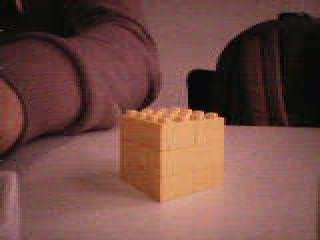legocube: (116, 106, 229, 203)
